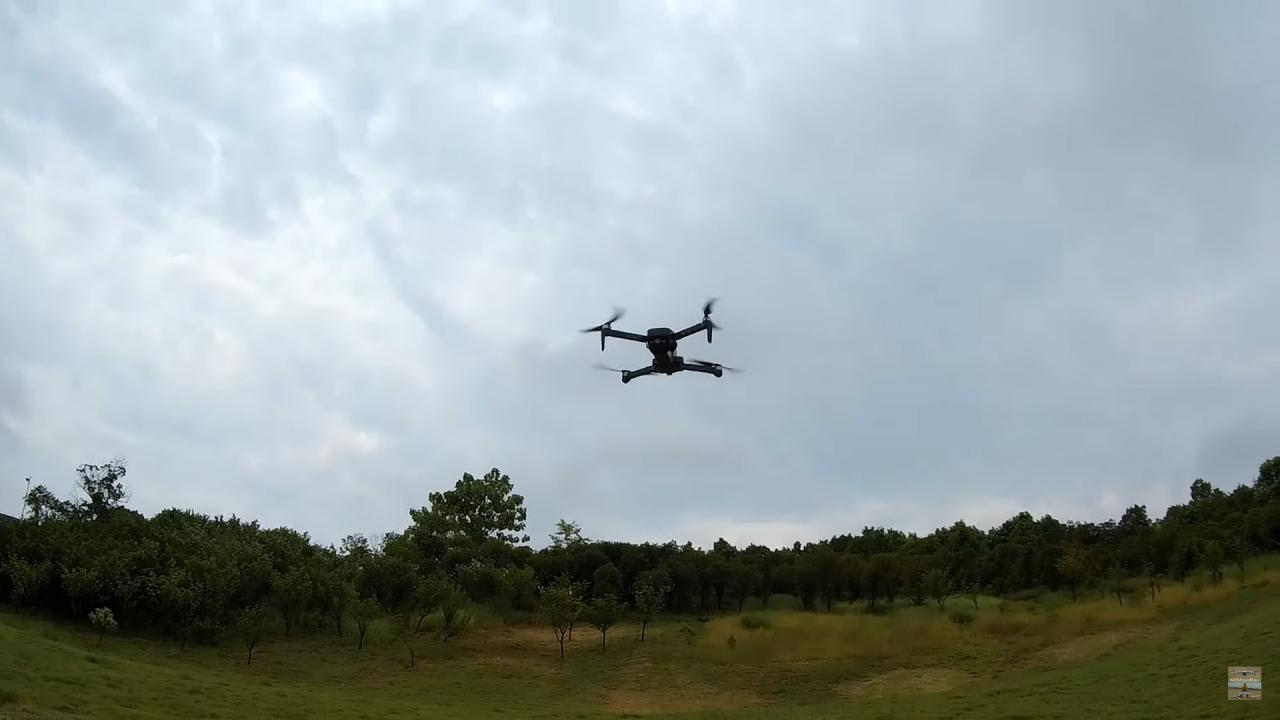Drone: (565, 286, 750, 395)
